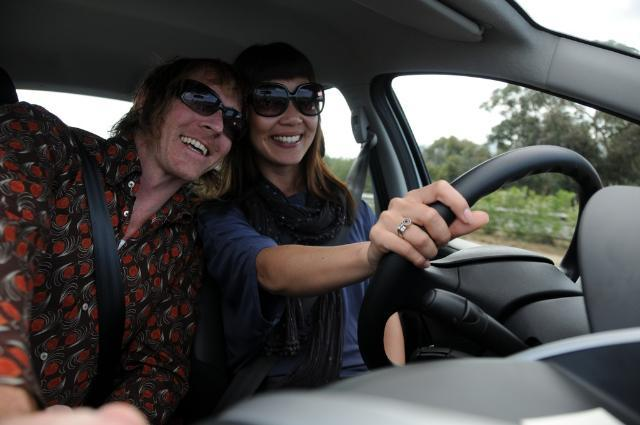Seatbelt: (72, 130, 126, 405)
